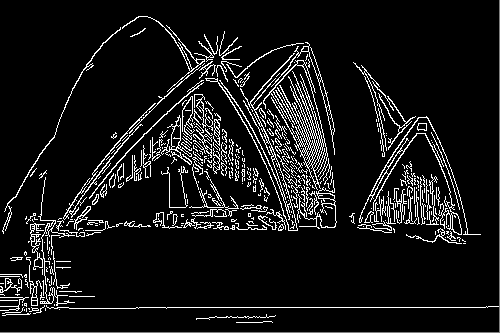opera house: (4, 7, 489, 263)
